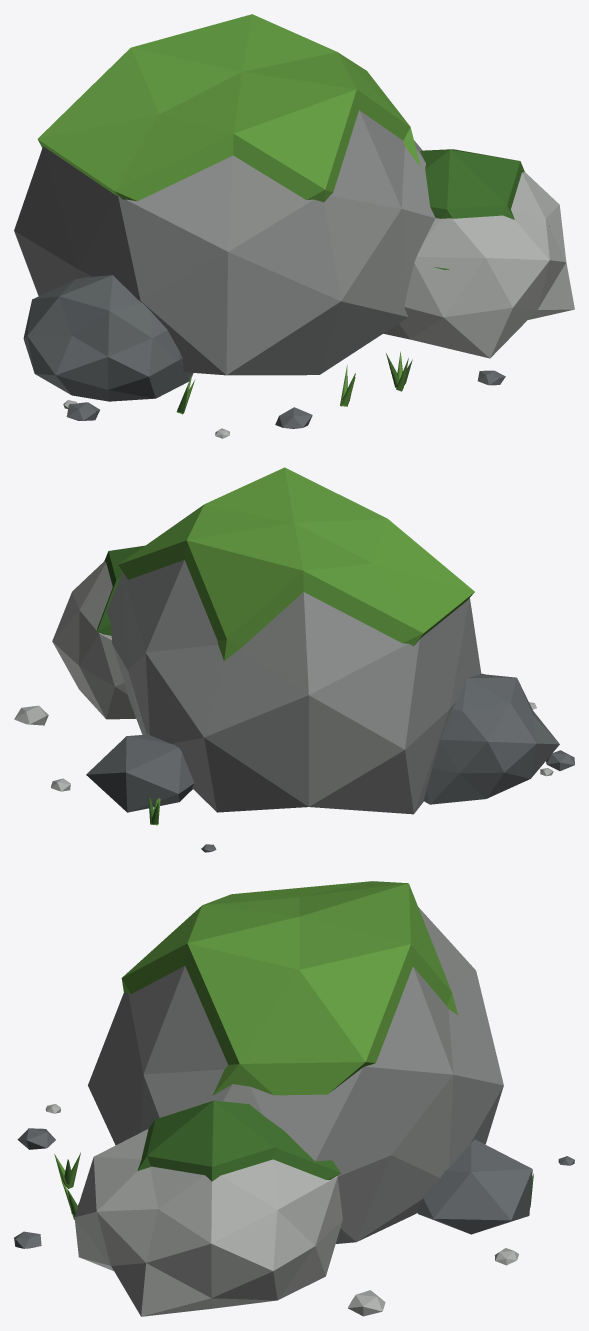
File: RockLarge.glb
3 renders of one model, top to bottom at view 1: azimuth 30°, elevation 25°; view 2: azimuth 150°, elevation 25°; view 3: azimuth 270°, elevation 25°, orthographic. The views are drawn at different scales.
Parts seen in each view (by area): view 1: Body; view 2: Body; view 3: Body.
Part boxes in pixels (x1,y1,x2,y2): Body: (14, 14, 574, 438); Body: (14, 467, 574, 852); Body: (14, 881, 574, 1316).
Bounding box in the file's own units: 8.87 × 4.33 × 7.84.
Materials: 1 (1 with a texture image).
